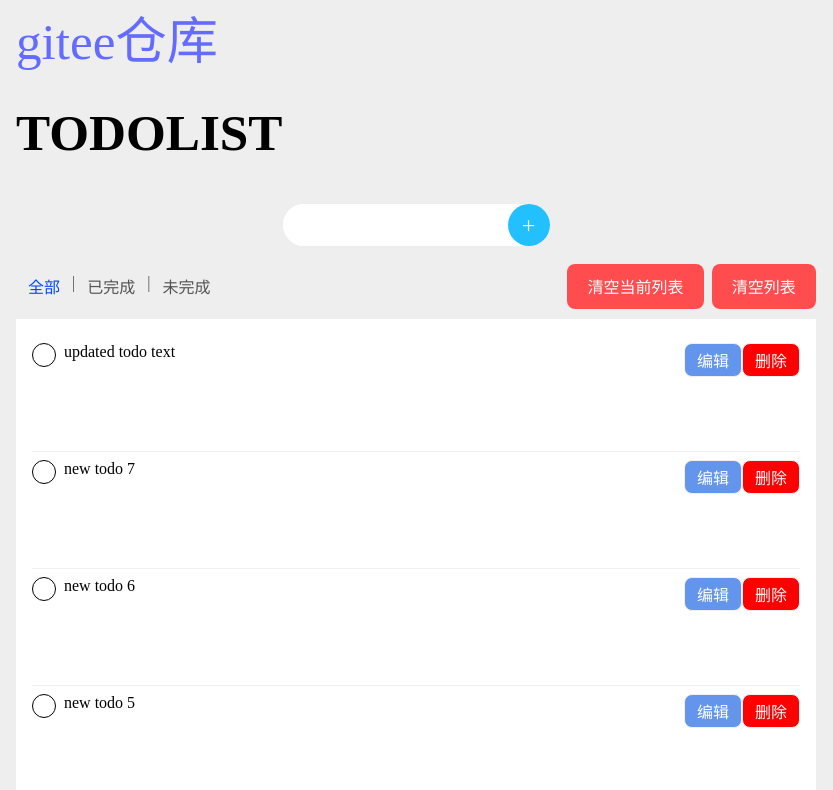
Test: 测试所有Todo组件 › 测试删除所有Todo
// 点击删除所有按钮
What coordinates should you click on to do the following:
click the button with class "all"
I would click on:
 (764, 286)
Its box is [712,264,816,309].
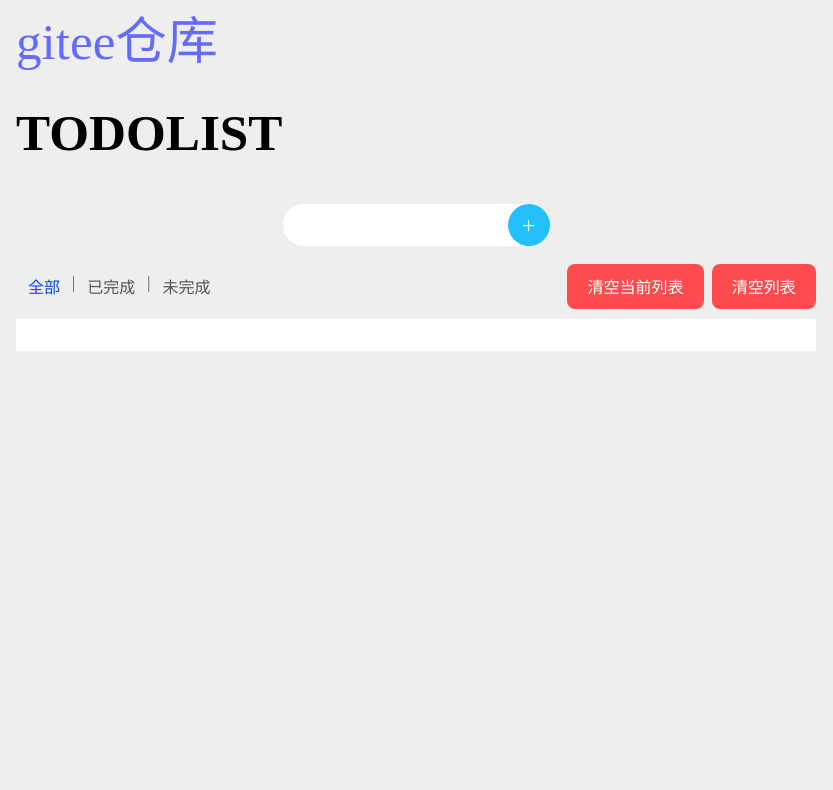
Expected: no elements with class "todo-item" are shown
